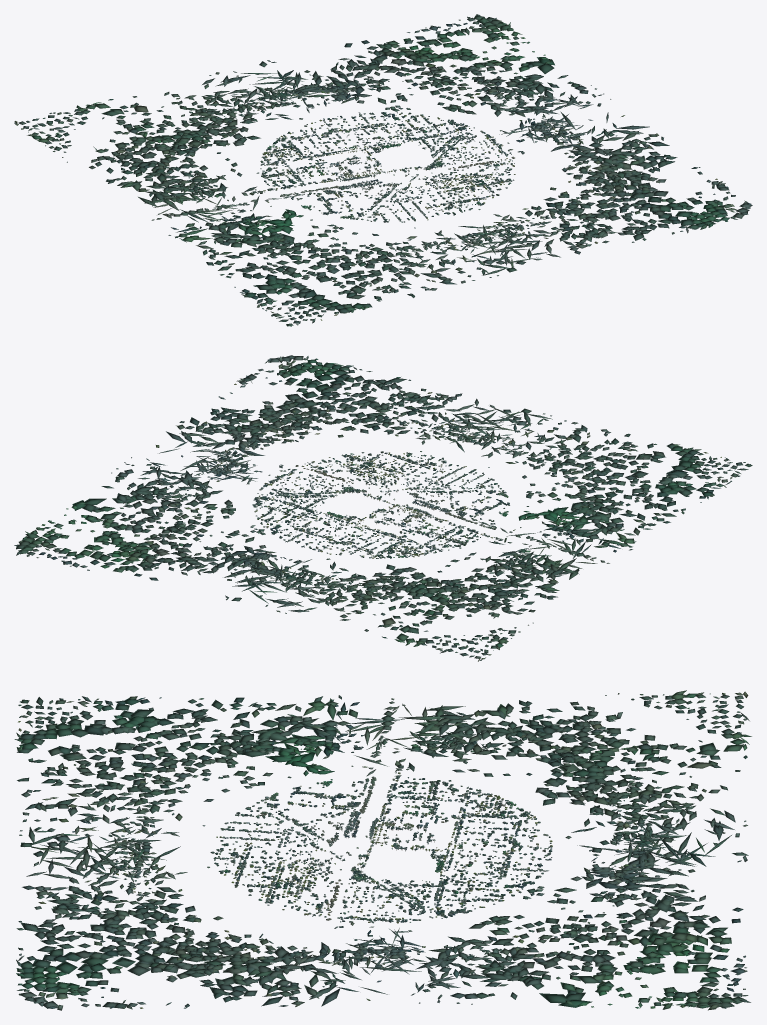
The model's file is whitten_backdrop_part2.glb.
3 renders of one model, top to bottom at view 1: azimuth 30°, elevation 25°; view 2: azimuth 150°, elevation 25°; view 3: azimuth 270°, elevation 25°, orthographic. The views are drawn at different scales.
Parts seen in each view (by area): view 1: bg_trees_joined_s10, bg_trees_joined_s08, bg_trees_joined_s11, bg_trees_joined_s12, bg_trees_joined_s13, bg_trees_joined_s09, bg_trees_joined_s15, bg_trees_joined_s14, bg_trees_joined_s02, bg_trees_joined_s07, bg_trees_joined_s06, bg_trees_joined_s04 (+4 smaller); view 2: bg_trees_joined_s10, bg_trees_joined_s08, bg_trees_joined_s12, bg_trees_joined_s13, bg_trees_joined_s14, bg_trees_joined_s11, bg_trees_joined_s15, bg_trees_joined_s09, bg_trees_joined_s07, bg_trees_joined_s02, bg_trees_joined_s06, bg_trees_joined_s04 (+4 smaller); view 3: bg_trees_joined_s10, bg_trees_joined_s08, bg_trees_joined_s13, bg_trees_joined_s12, bg_trees_joined_s11, bg_trees_joined_s14, bg_trees_joined_s15, bg_trees_joined_s09, bg_trees_joined_s07, bg_trees_joined_s02, bg_trees_joined_s06, bg_trees_joined_s04 (+4 smaller).
Boxes of the visible parts, x1=… form: bg_trees_joined_s10: x1=454, y1=187, x2=749, y2=264; bg_trees_joined_s08: x1=168, y1=195, x2=352, y2=326; bg_trees_joined_s11: x1=507, y1=112, x2=752, y2=210; bg_trees_joined_s12: x1=433, y1=17, x2=611, y2=136; bg_trees_joined_s13: x1=257, y1=14, x2=484, y2=113; bg_trees_joined_s09: x1=287, y1=220, x2=518, y2=326; bg_trees_joined_s15: x1=14, y1=122, x2=272, y2=220; bg_trees_joined_s14: x1=14, y1=71, x2=311, y2=146; bg_trees_joined_s02: x1=393, y1=168, x2=510, y2=215; bg_trees_joined_s07: x1=260, y1=152, x2=378, y2=190; bg_trees_joined_s06: x1=264, y1=118, x2=381, y2=166; bg_trees_joined_s04: x1=404, y1=114, x2=495, y2=156; bg_trees_joined_s10: x1=283, y1=355, x2=511, y2=458; bg_trees_joined_s08: x1=495, y1=464, x2=752, y2=552; bg_trees_joined_s12: x1=14, y1=457, x2=265, y2=549; bg_trees_joined_s13: x1=16, y1=519, x2=304, y2=601; bg_trees_joined_s14: x1=254, y1=551, x2=481, y2=661; bg_trees_joined_s11: x1=156, y1=356, x2=342, y2=475; bg_trees_joined_s15: x1=417, y1=535, x2=609, y2=660; bg_trees_joined_s09: x1=458, y1=408, x2=751, y2=485; bg_trees_joined_s07: x1=384, y1=507, x2=485, y2=556; bg_trees_joined_s02: x1=349, y1=451, x2=443, y2=501; bg_trees_joined_s06: x1=318, y1=508, x2=413, y2=558; bg_trees_joined_s04: x1=253, y1=479, x2=336, y2=518; bg_trees_joined_s10: x1=16, y1=848, x2=259, y2=1003; bg_trees_joined_s08: x1=23, y1=695, x2=387, y2=797; bg_trees_joined_s13: x1=502, y1=843, x2=750, y2=1003; bg_trees_joined_s12: x1=378, y1=900, x2=735, y2=1010; bg_trees_joined_s11: x1=35, y1=904, x2=391, y2=1010; bg_trees_joined_s14: x1=530, y1=691, x2=751, y2=852; bg_trees_joined_s15: x1=376, y1=690, x2=742, y2=781; bg_trees_joined_s09: x1=14, y1=699, x2=237, y2=853; bg_trees_joined_s07: x1=382, y1=776, x2=502, y2=847; bg_trees_joined_s02: x1=212, y1=849, x2=371, y2=900; bg_trees_joined_s06: x1=391, y1=798, x2=552, y2=851; bg_trees_joined_s04: x1=382, y1=874, x2=502, y2=922.
Size of the model in its own units: 3029 by 69.72 by 3043.
1 material, 1 textured.
